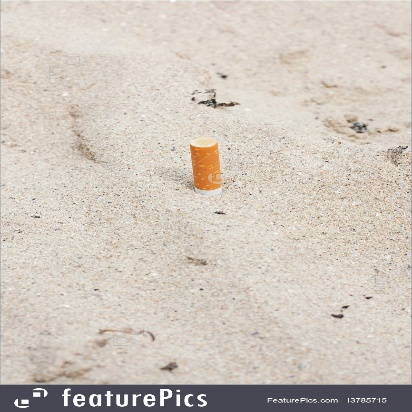cigarette: (179, 135, 232, 205)
